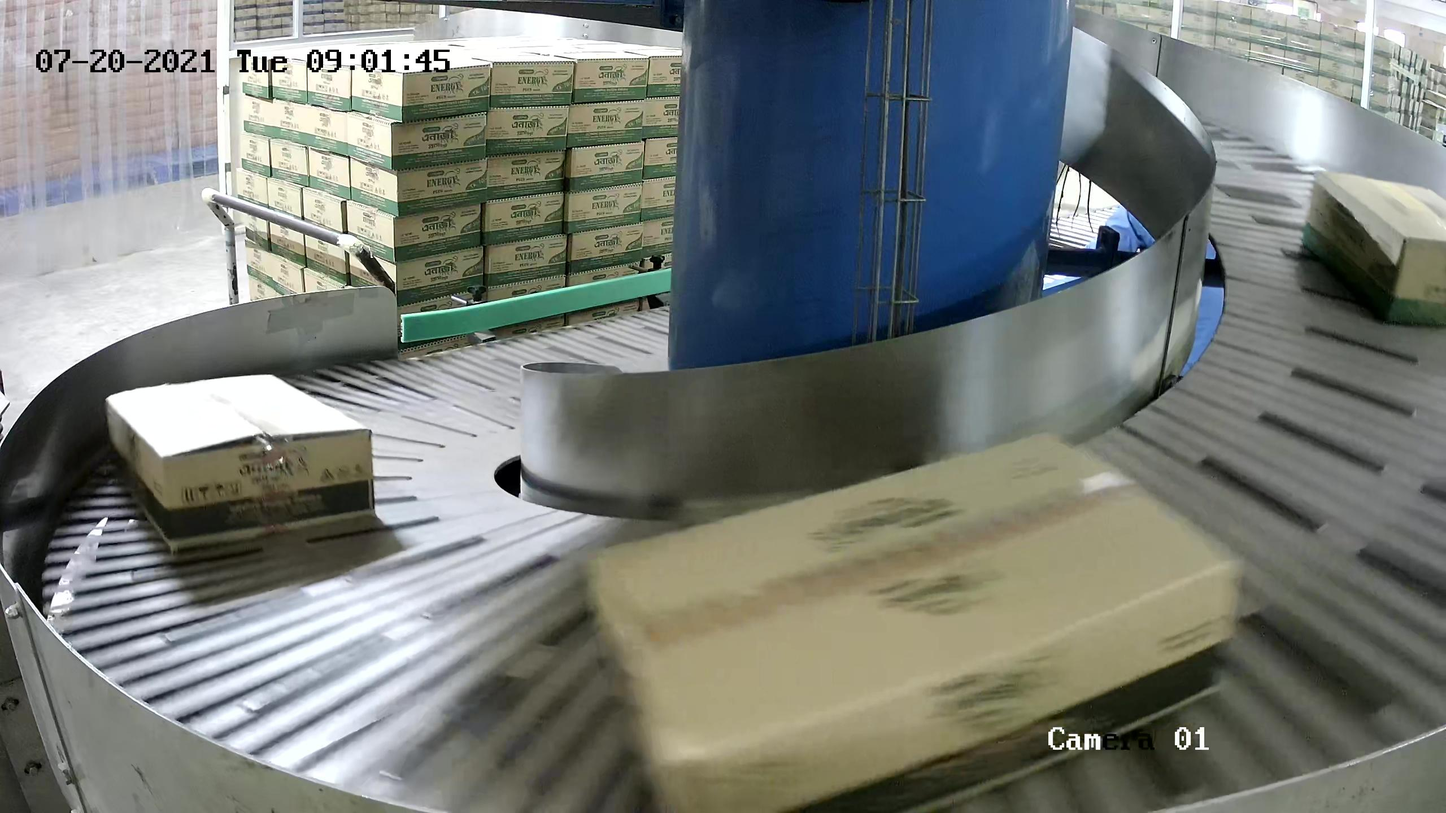Box: (577, 425, 1255, 813), (102, 371, 378, 556), (1300, 169, 1446, 330)
